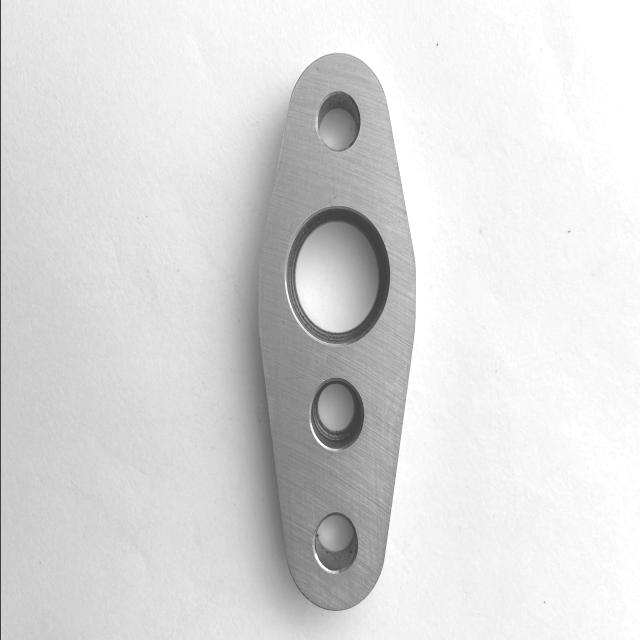chap: (319, 376, 326, 384), (314, 66, 320, 74)
lines: (328, 198, 334, 212), (325, 452, 333, 459)
